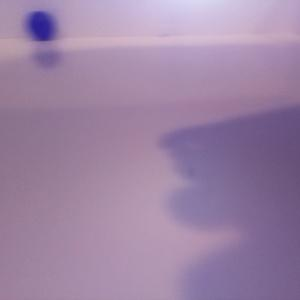dead_ball: (24, 9, 55, 41)
